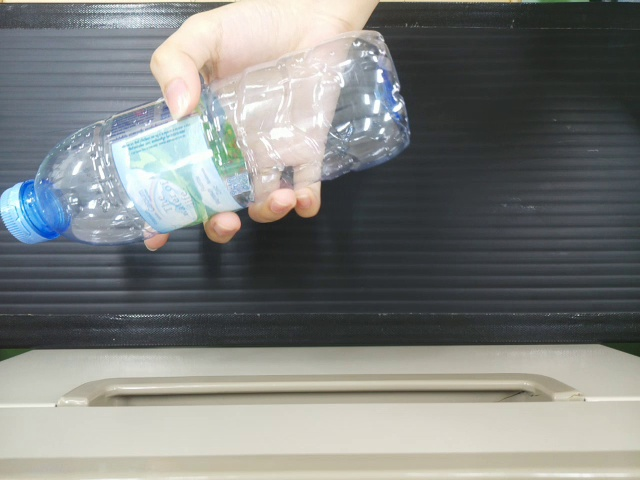bottle: (0, 38, 413, 245)
